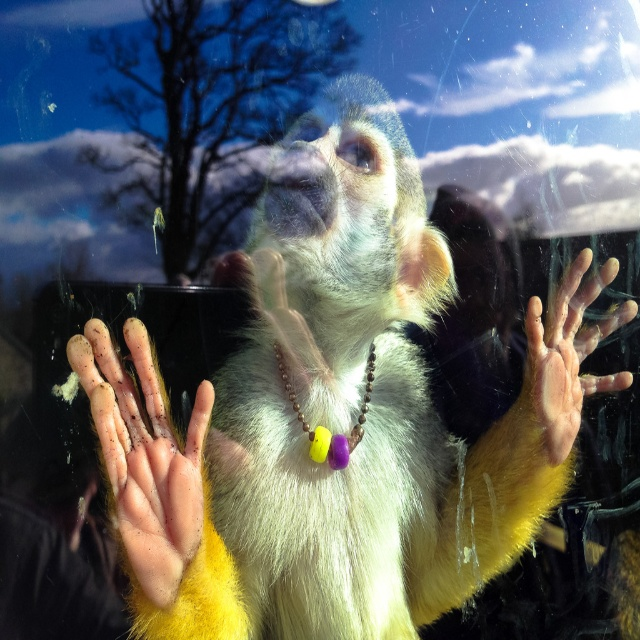Monkey: (65, 68, 640, 639)
